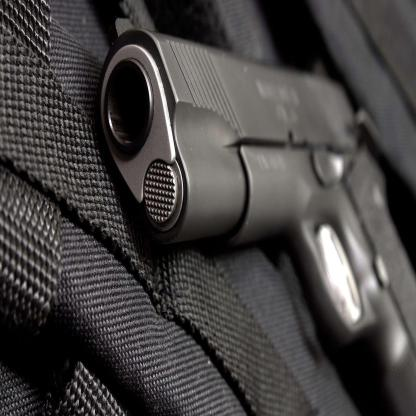handgun: (97, 16, 416, 416)
